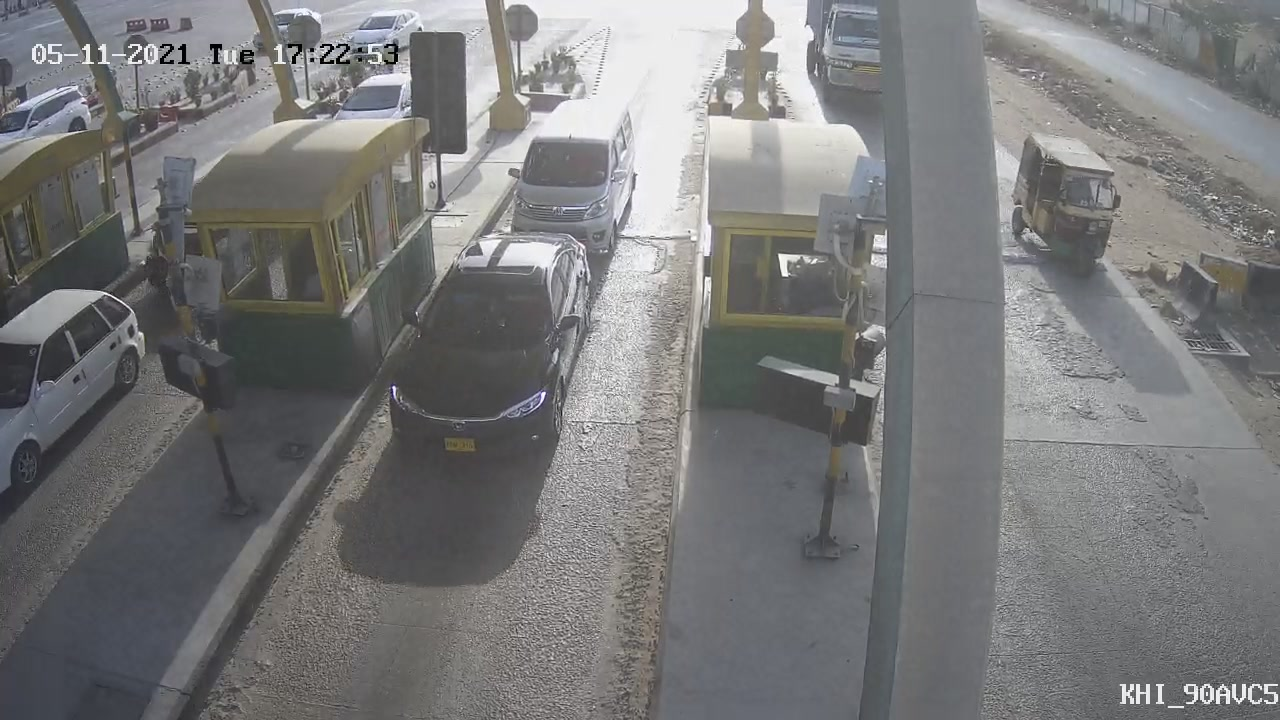F1: (379, 222, 593, 479), (487, 88, 652, 264)
